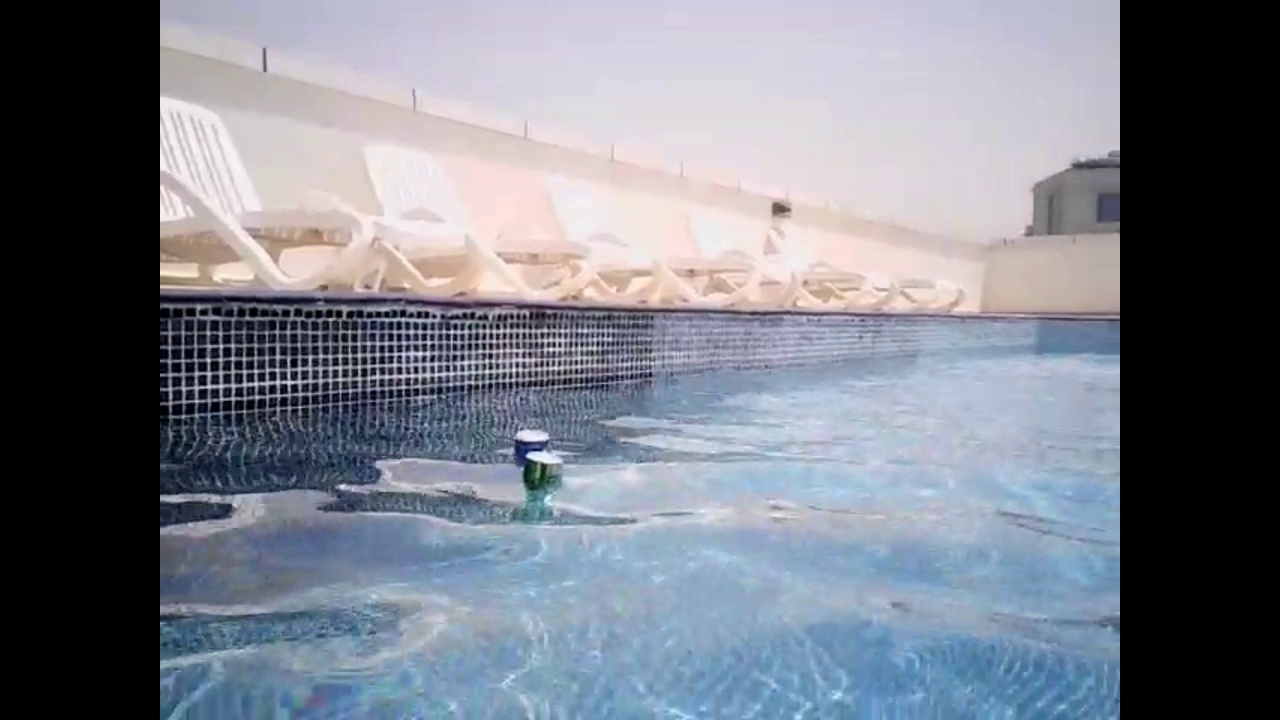debris: (514, 449, 566, 508), (507, 417, 555, 479)
